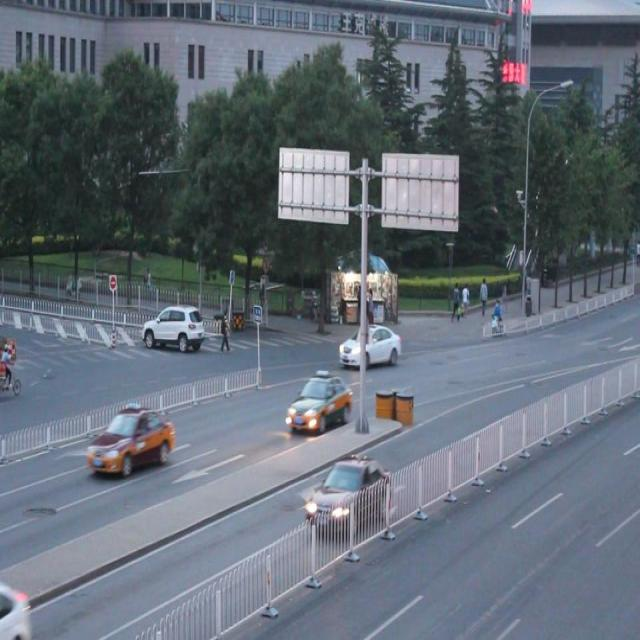car: (87, 403, 176, 476), (308, 458, 393, 530), (286, 373, 351, 435), (141, 304, 202, 350), (339, 326, 400, 370)
